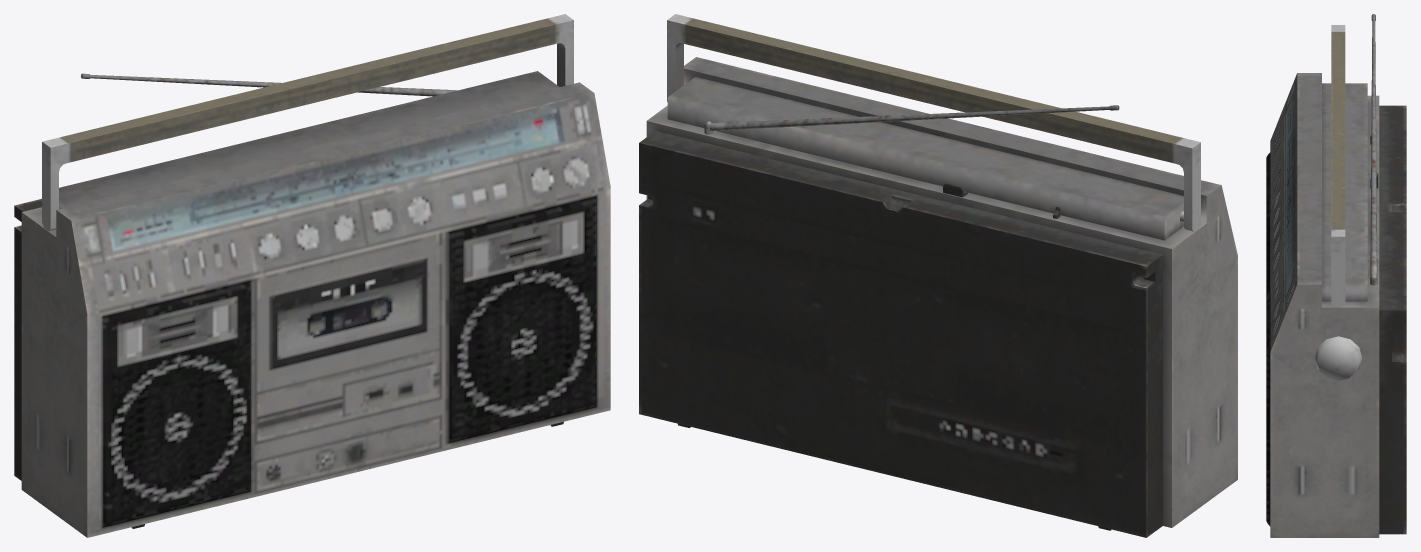
Rendered from 034_BoomBox.fbx.
3 renders of one model, left to right at view 1: azimuth 30°, elevation 25°; view 2: azimuth 150°, elevation 25°; view 3: azimuth 270°, elevation 25°, orthographic. The views are drawn at different scales.
Parts seen in each view (by area): view 1: LOD_1_Group_0_Sub_1__sm31_034_BoomBox01A_A_Mat; view 2: LOD_1_Group_0_Sub_1__sm31_034_BoomBox01A_A_Mat; view 3: LOD_1_Group_0_Sub_1__sm31_034_BoomBox01A_A_Mat.
Part boxes in pixels (x1,y1,x2,y2): LOD_1_Group_0_Sub_1__sm31_034_BoomBox01A_A_Mat: [14, 14, 610, 537]; LOD_1_Group_0_Sub_1__sm31_034_BoomBox01A_A_Mat: [639, 14, 1237, 537]; LOD_1_Group_0_Sub_1__sm31_034_BoomBox01A_A_Mat: [1266, 14, 1406, 537].
Bounding box in the file's own units: 0.5711 × 0.4169 × 0.1565.
